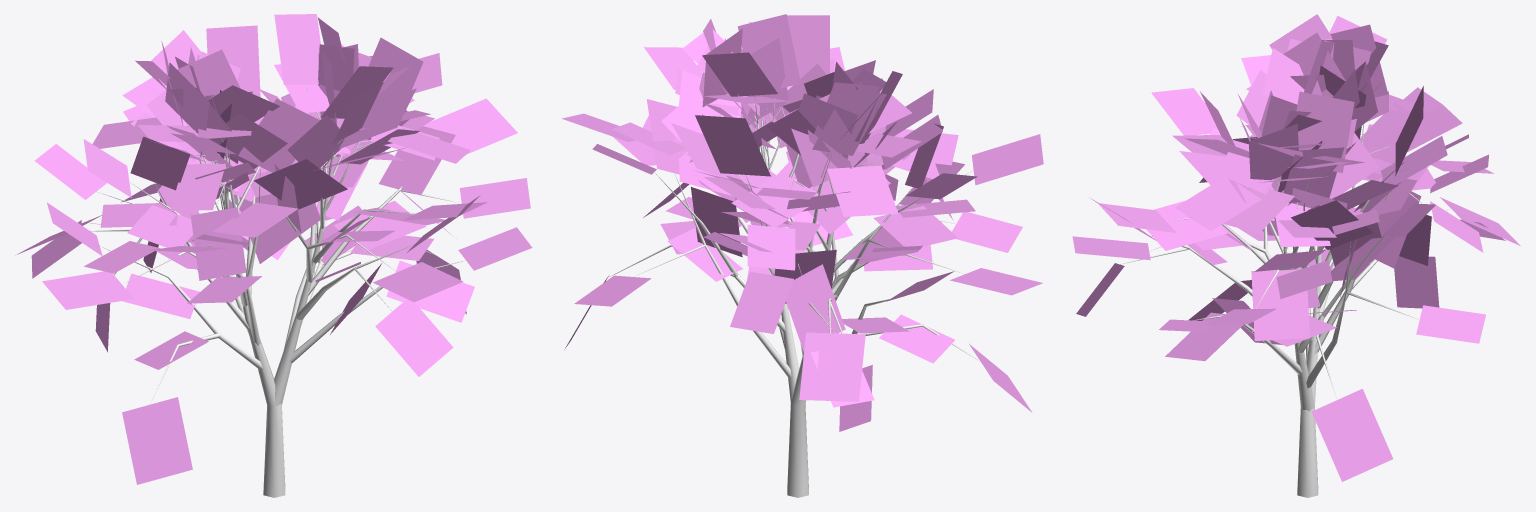
The model's file is Flamboyan0.fbx.
The picture shows the model from 3 angles, left to right: view 1: azimuth 30°, elevation 25°; view 2: azimuth 150°, elevation 25°; view 3: azimuth 270°, elevation 25°; orthographic projection. The views are drawn at different scales.
Parts seen in each view (by area): view 1: flambonyan; view 2: flambonyan; view 3: flambonyan.
Boxes of the visible parts, box(x1,y1,x2,y2) form: flambonyan: box(15, 14, 532, 497); flambonyan: box(562, 14, 1043, 497); flambonyan: box(1072, 14, 1520, 497).
Bounding box in the file's own units: 679 × 644 × 603.
